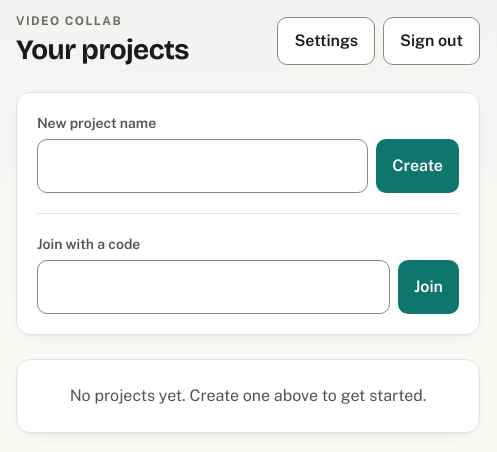
Test: ProjectsPage — join with a code › disables the Join button while redemption is in flight
Expected: the text "No projects yet. Create one above to get started." is shown, left=41, top=384, right=455, bottom=408
Type "4827" into the field labelled "Join with a code" at (214, 287), box left=37, top=260, right=390, bottom=314
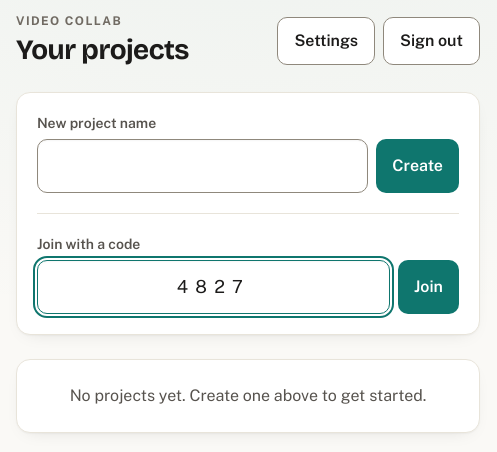
Click the button "Join" at (428, 287), box left=398, top=260, right=459, bottom=314
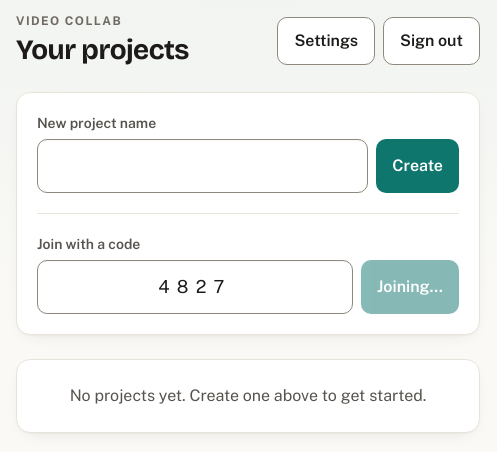
Result: the button "Joining…" is disabled at left=361, top=260, right=459, bottom=314
